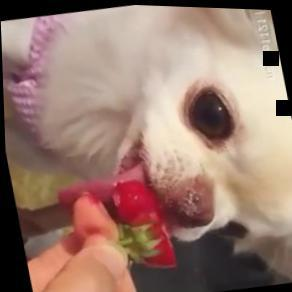nasal_discharge: (165, 182, 210, 221)
